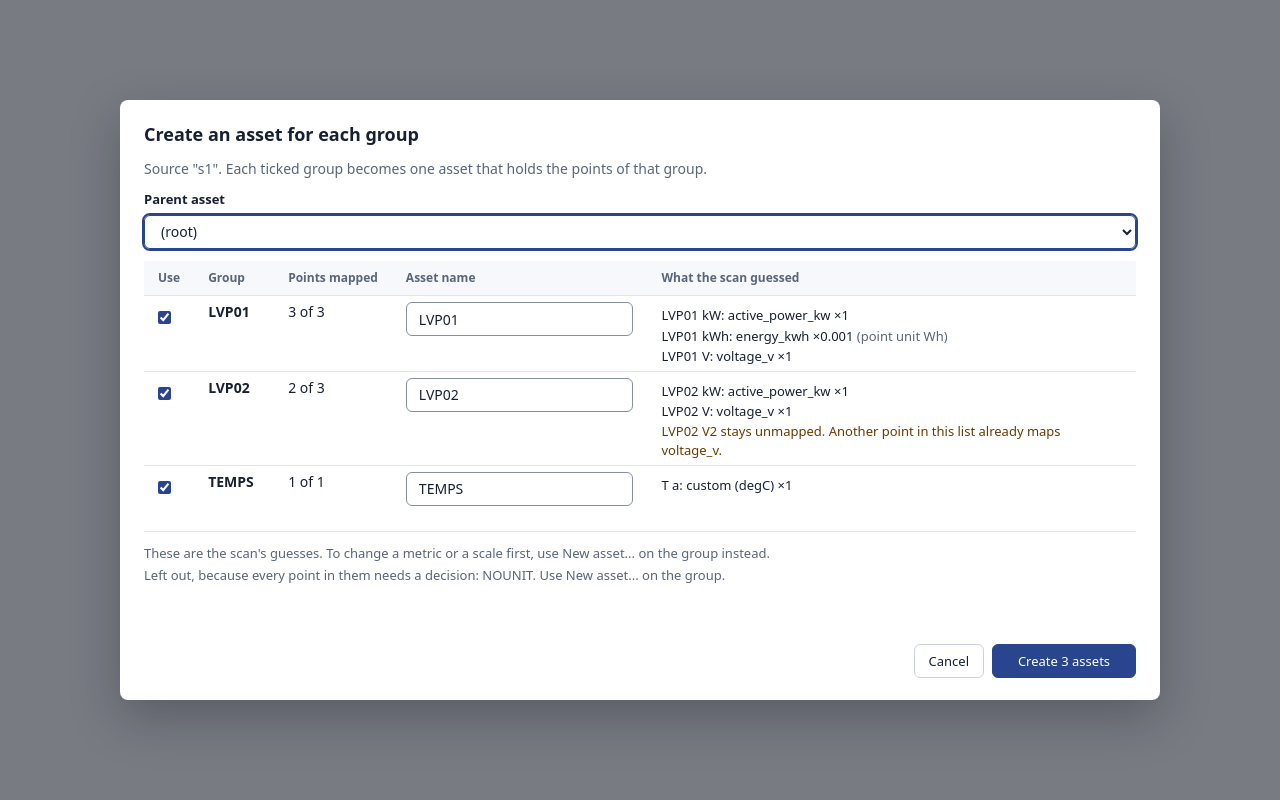
BulkCreateDialog › the sentence under the list after a partial batch (W7r fix wave) › shows the outcome, not the clash of the row that is left
Click the button "Create 3 assets": (1064, 661) [992,644,1136,678]
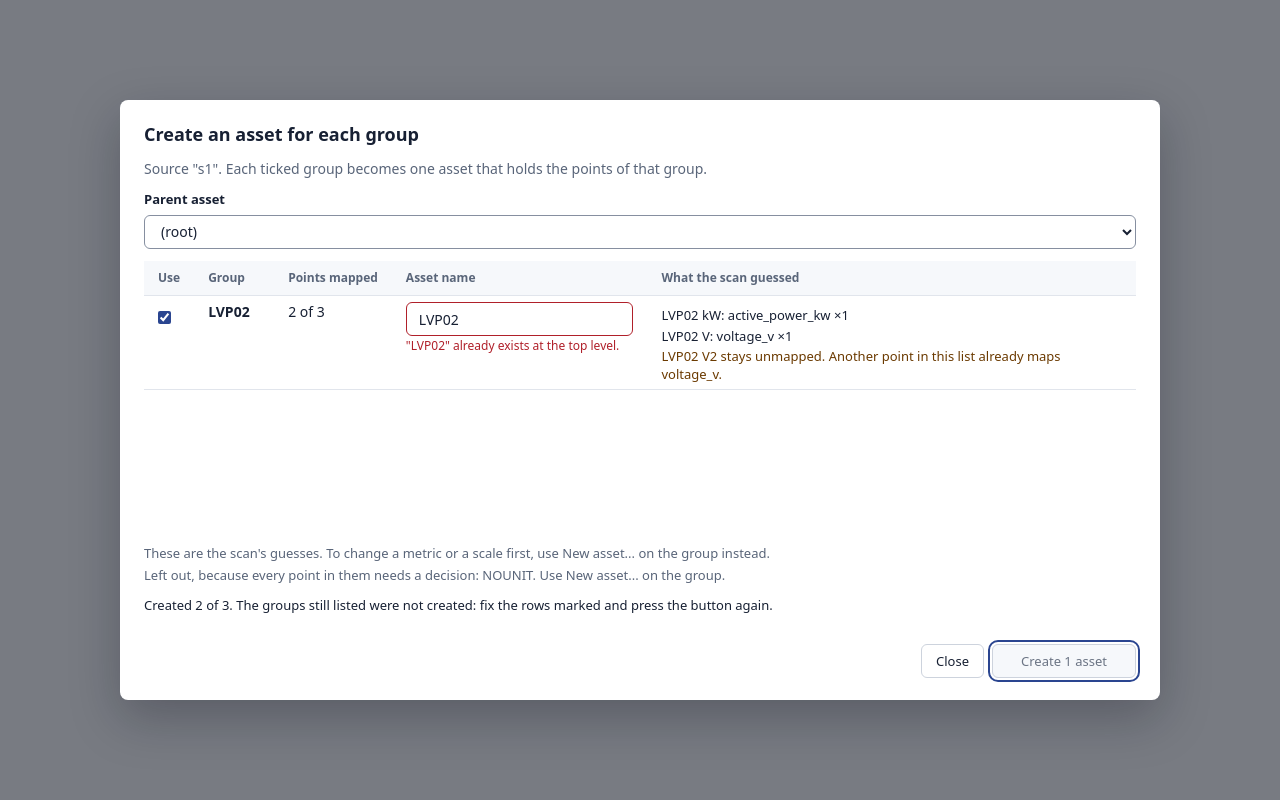
Expected: the text "already exists" is not shown
Expected: the text "Created 2 of 3. The groups still listed were not created: fix the rows marked and press the button again." is shown, [144,596,773,614]
